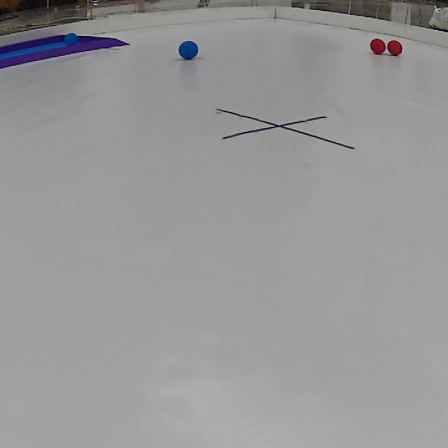blue: (179, 41, 203, 60), (65, 31, 79, 46)
blue_aim: (0, 32, 131, 70)
red: (385, 37, 404, 58), (370, 37, 387, 56)
